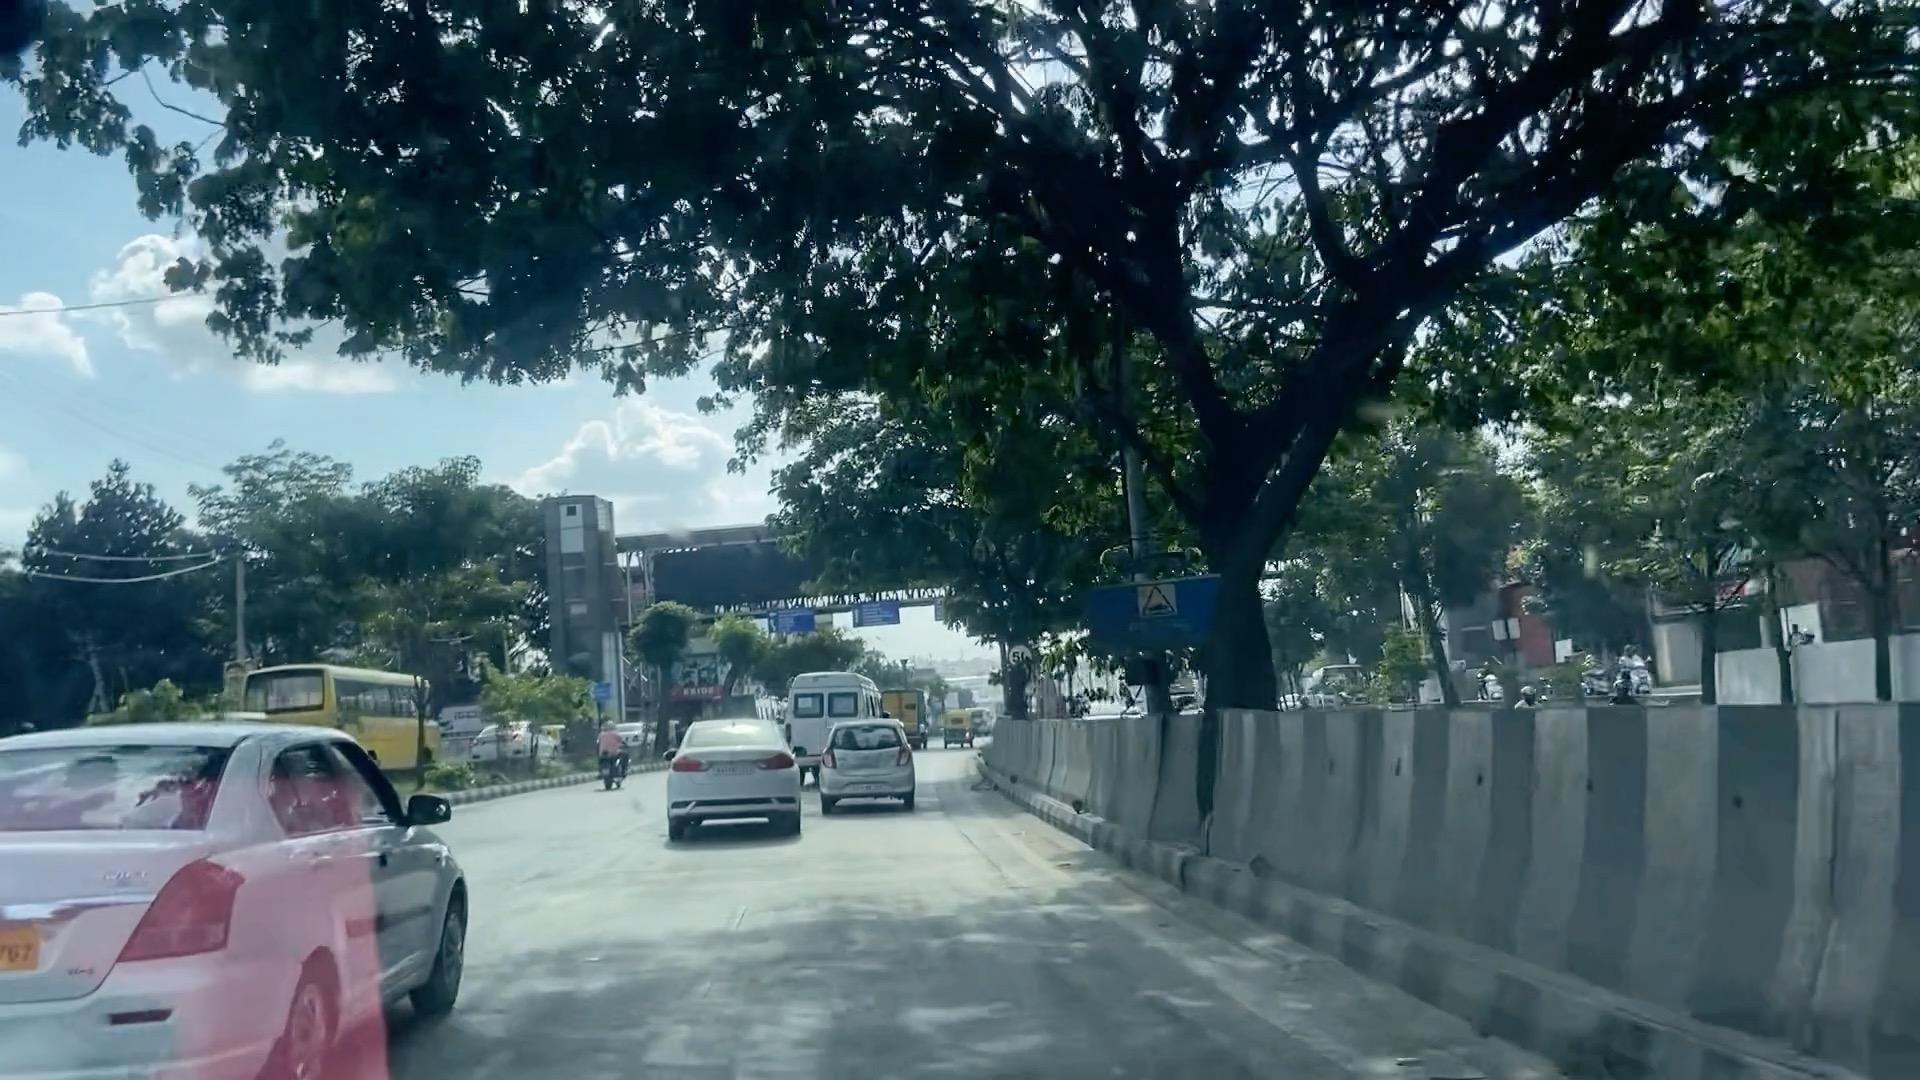LMV: (667, 712, 793, 823), (818, 717, 918, 810)
